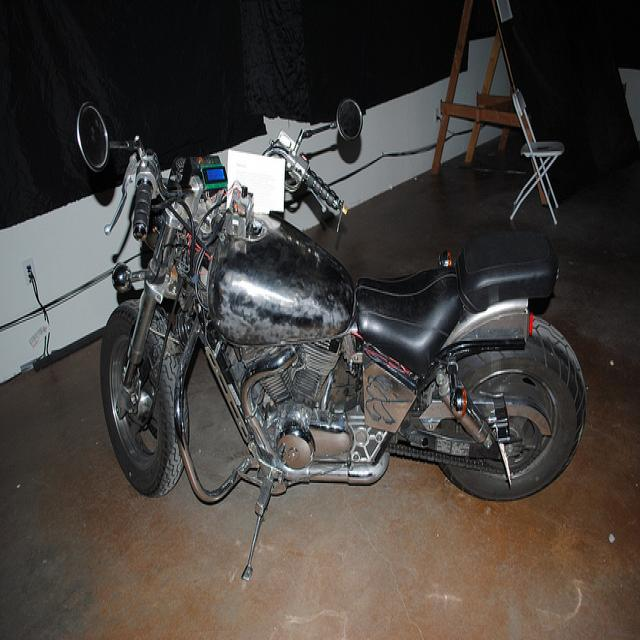motor: (75, 96, 595, 584)
